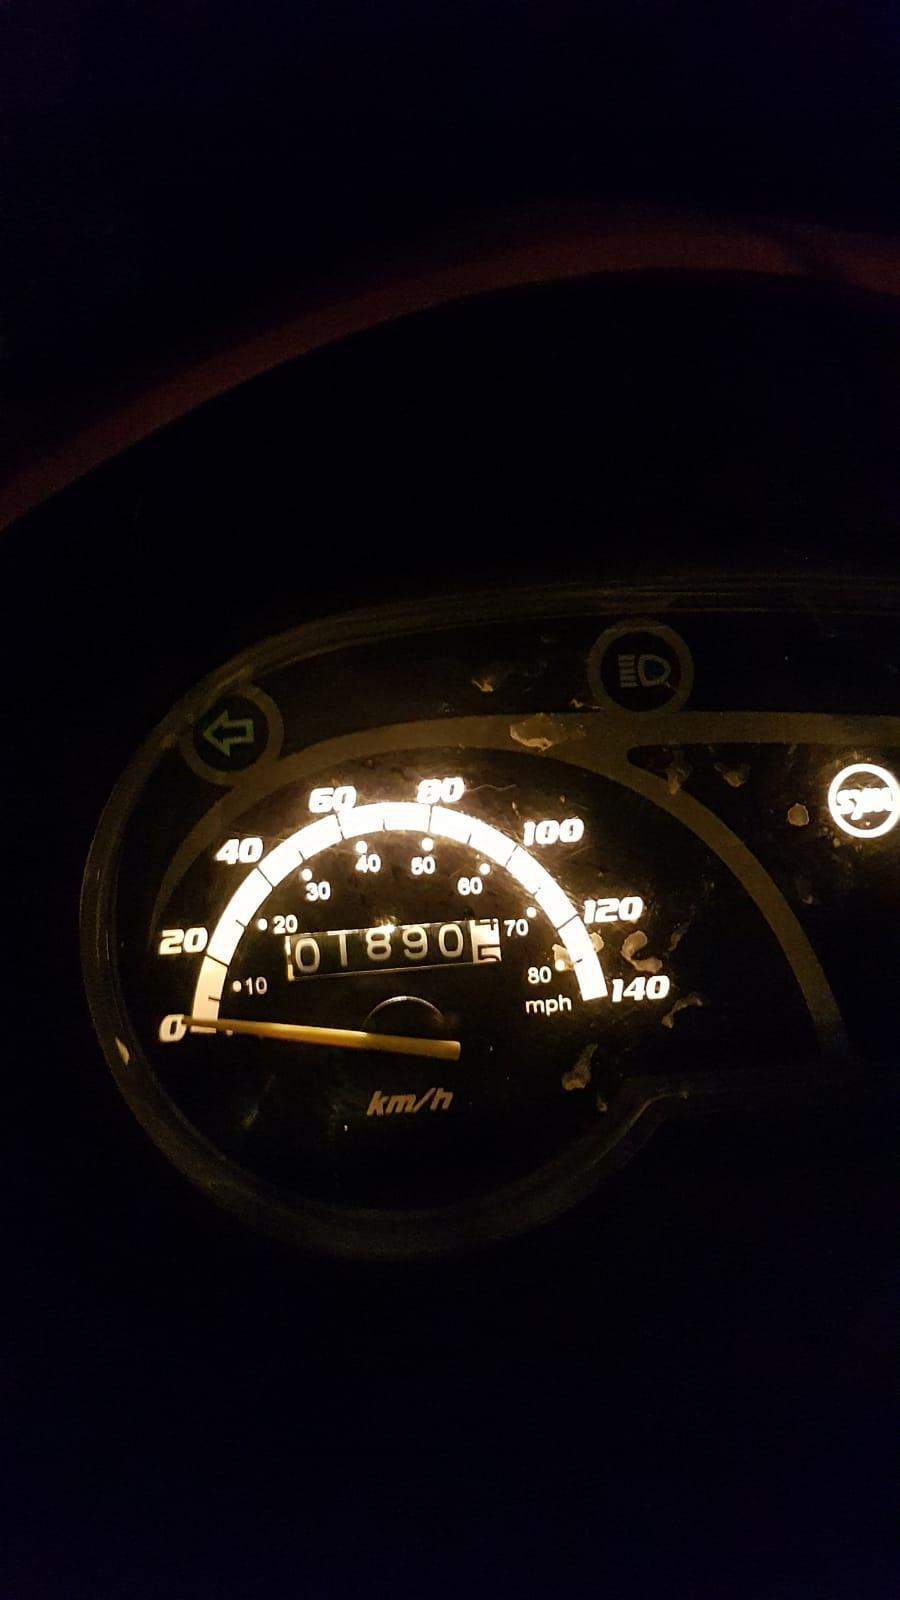0: (291, 936, 323, 975), (437, 919, 464, 959), (516, 916, 527, 941), (286, 912, 298, 933)
1: (334, 926, 349, 970)
2: (273, 913, 286, 934)
5: (473, 938, 504, 973)
7: (503, 916, 515, 936)
8: (365, 926, 392, 962), (526, 965, 538, 986)
9: (401, 924, 432, 962)
odometer: (267, 900, 536, 998)
